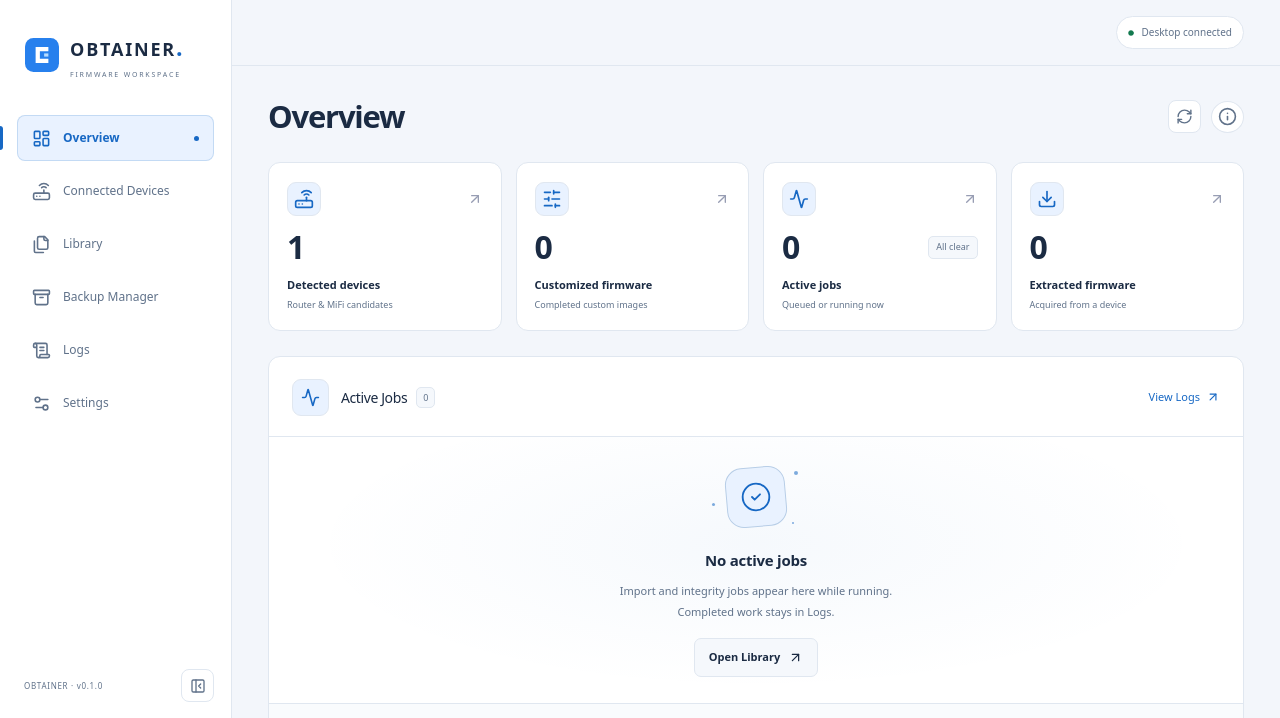
Test: opens contextual help from Backup Manager
Expected: the text "Desktop connected" is shown, [1142,25,1232,40]
Click the link "Backup Manager" at (95, 297), box [32,288,158,306]
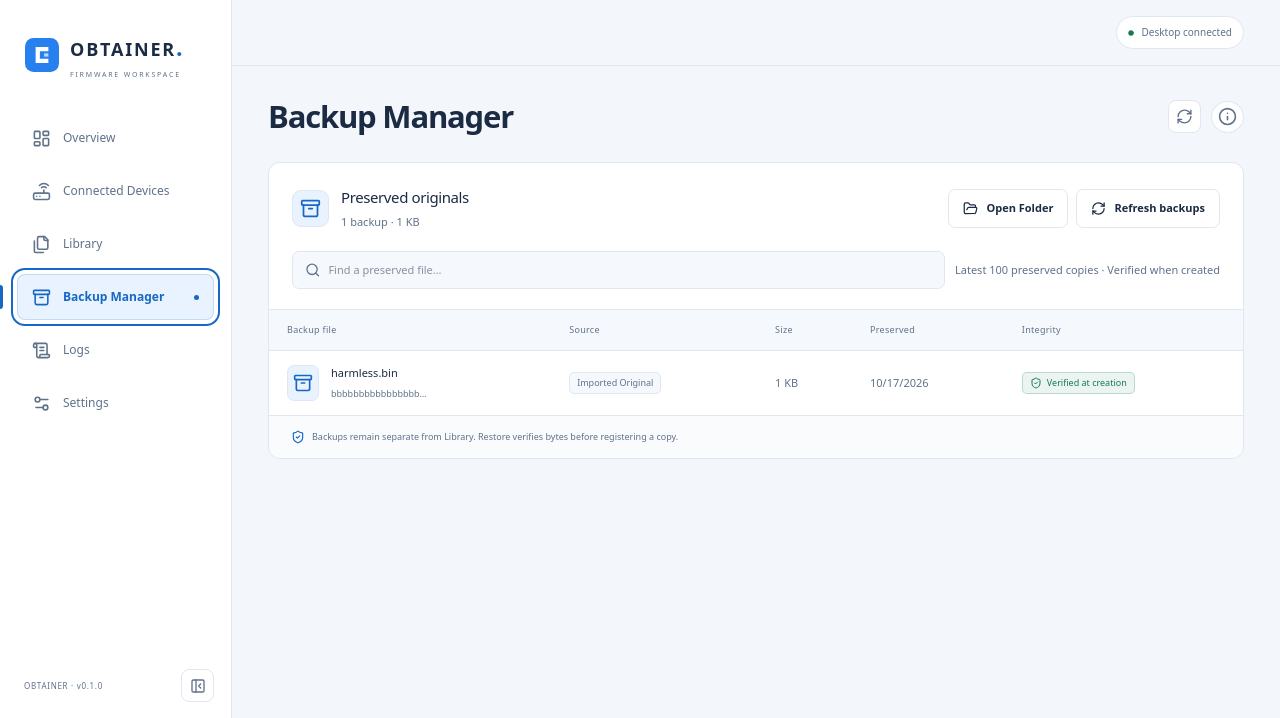
Result: the link "Backup Manager" is marked as current at [17,274,214,320]
Click the button named "How to use this page" at (1228, 117), box [1211,101,1244,133]
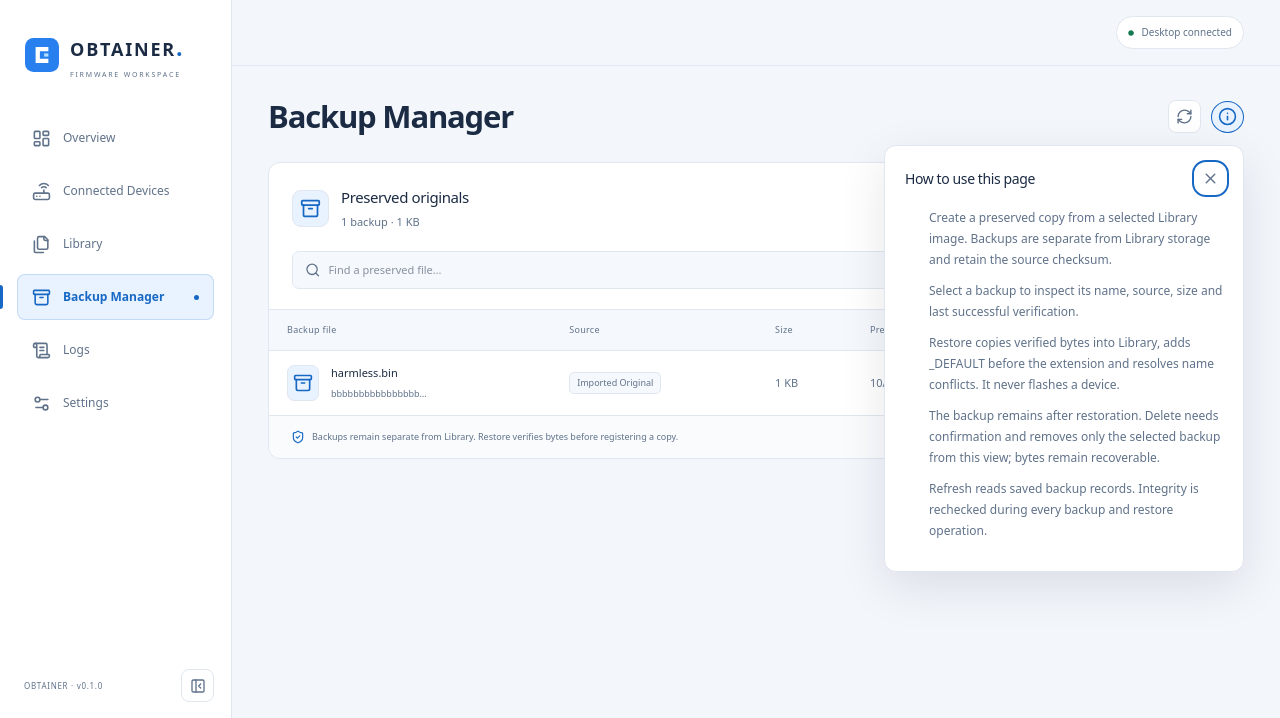
Result: the dialog "How to use this page" is shown at [884,145,1244,572]
Press Escape
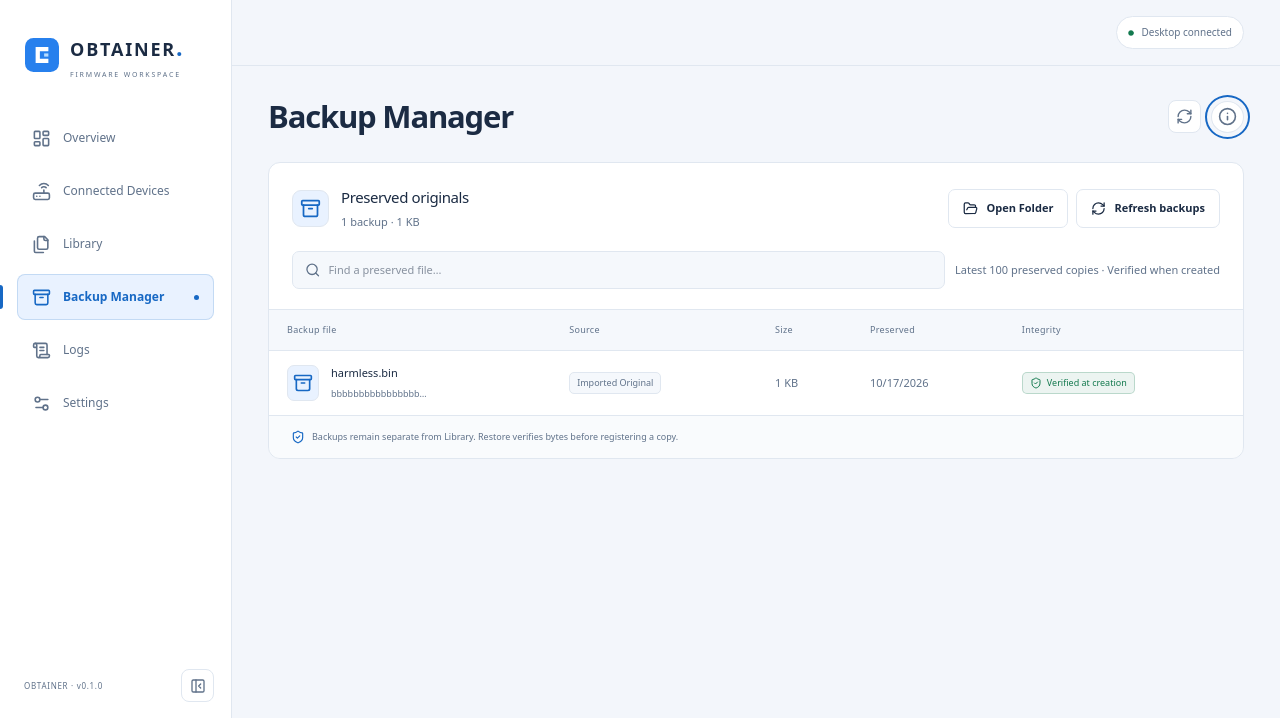
Result: the dialog is gone
